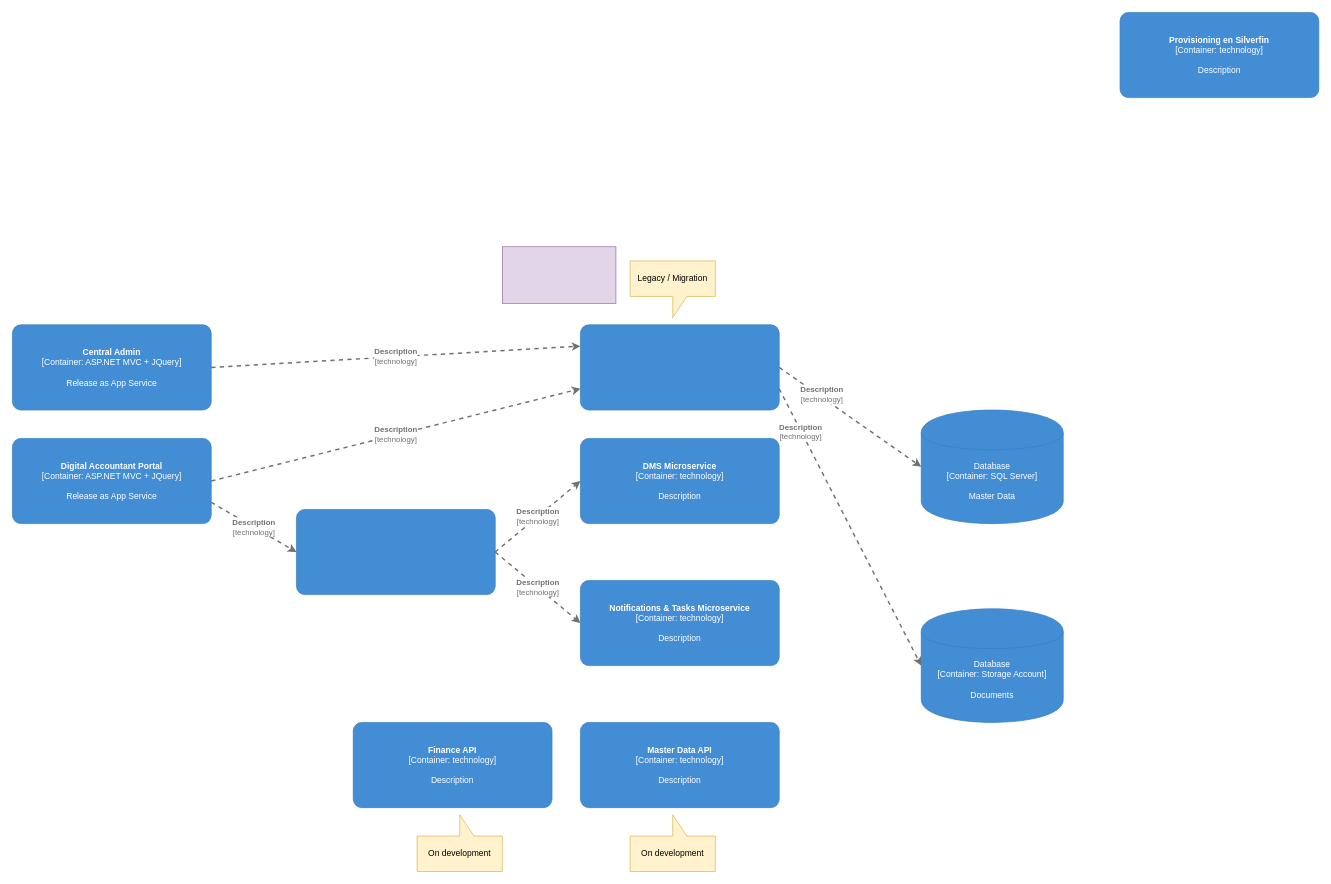
The diagram is 1331 pixels wide and 884 high, and some of its shapes have lost their labels. The shapes that lost their labels are listed below. From the top down, each one's centre as x and y in pixels, then its label:
At [559,275]: "- Documents - Notification - Finance".
At [679,367]: "Core API [Container: technology] Description".
At [395,552]: "Gateway [Container: WebAPI + Ocelot] Description".
